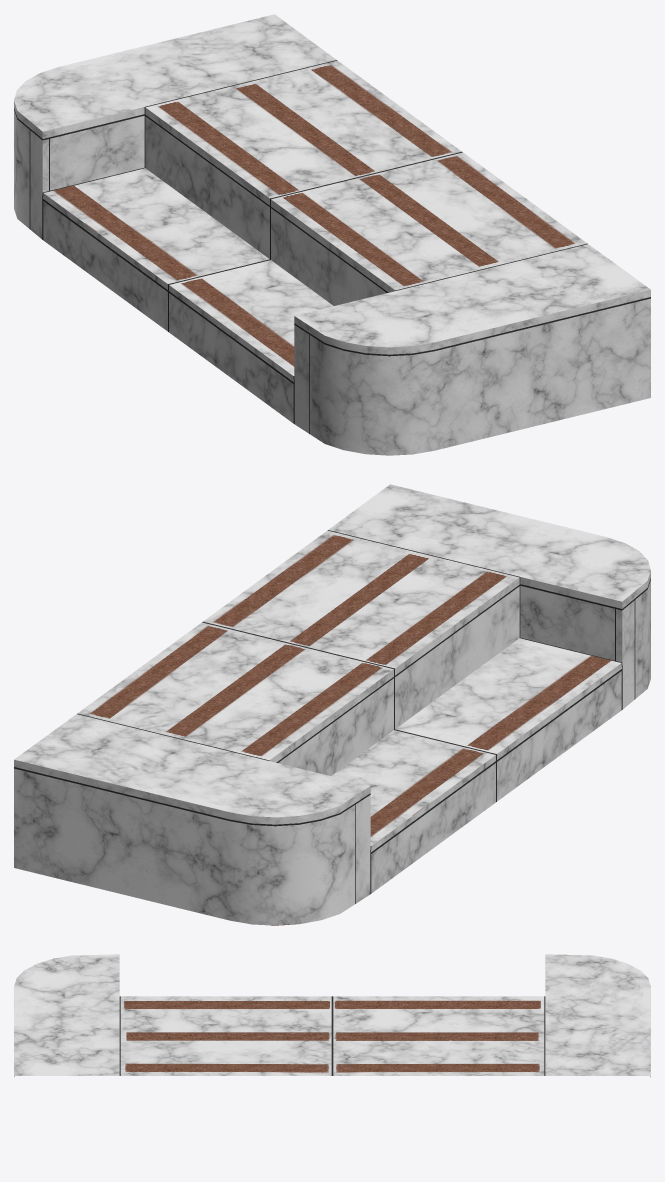
File: step2.fbx
The picture shows the model from 3 angles, top to bottom: view 1: azimuth 30°, elevation 25°; view 2: azimuth 150°, elevation 25°; view 3: azimuth 270°, elevation 25°; orthographic projection. The views are drawn at different scales.
Parts seen in each view (by area): view 1: step2; view 2: step2; view 3: step2.
Boxes of the visible parts, left/top/right/bottom form: step2: left=14, top=14, right=650, bottom=455; step2: left=14, top=484, right=650, bottom=925; step2: left=14, top=954, right=650, bottom=1077.
Size of the model in its own units: 92.86 by 32.64 by 205.
